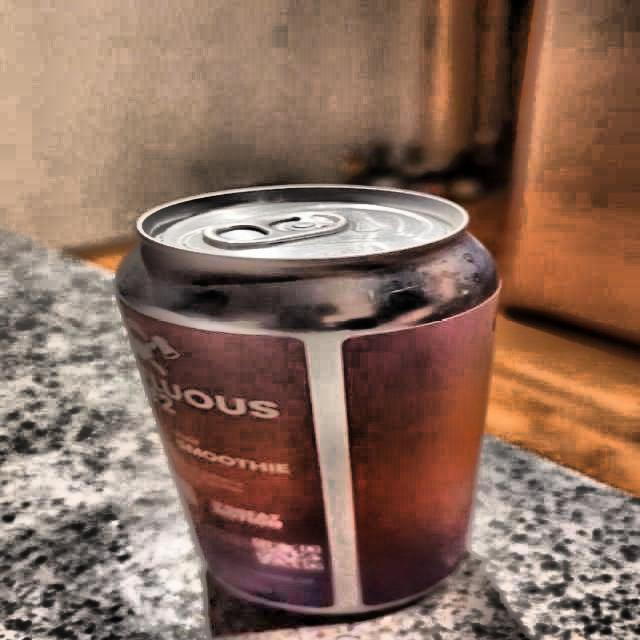can: (107, 175, 508, 616)
